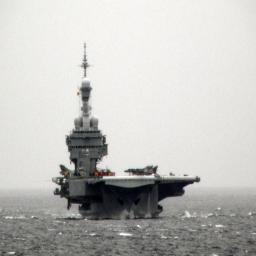Portanaves: (51, 32, 204, 221)
